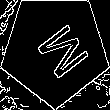M_SW: (23, 16, 87, 82)
